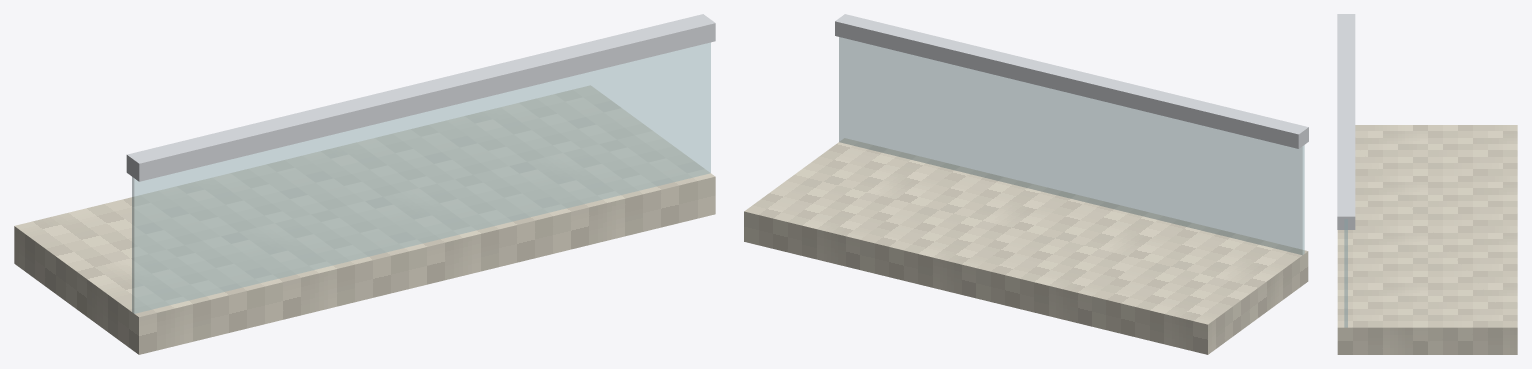
Rendered from retro-arcade-and-mall-1989-mezzanine-edge-3a77a832__15523.glb.
The picture shows the model from 3 angles, left to right: view 1: azimuth 30°, elevation 25°; view 2: azimuth 150°, elevation 25°; view 3: azimuth 270°, elevation 25°; orthographic projection. The views are drawn at different scales.
Visible parts, largest first — view 1: mezzanine-edge; view 2: mezzanine-edge; view 3: mezzanine-edge.
Boxes of the visible parts, x1=… form: mezzanine-edge: x1=14, y1=14, x2=715, y2=354; mezzanine-edge: x1=744, y1=14, x2=1308, y2=354; mezzanine-edge: x1=1337, y1=14, x2=1517, y2=354.
Bounding box in the file's own units: 4 × 1.27 × 1.51.
3 materials, 1 textured.
